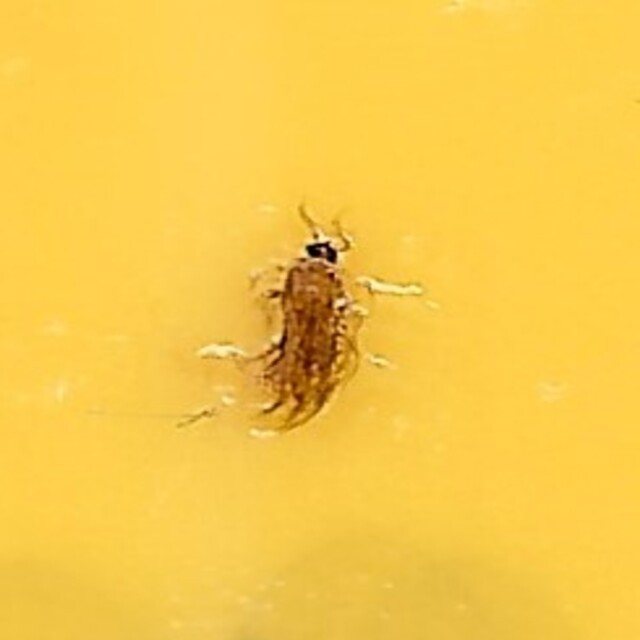Trichoptera: (261, 210, 379, 430)
